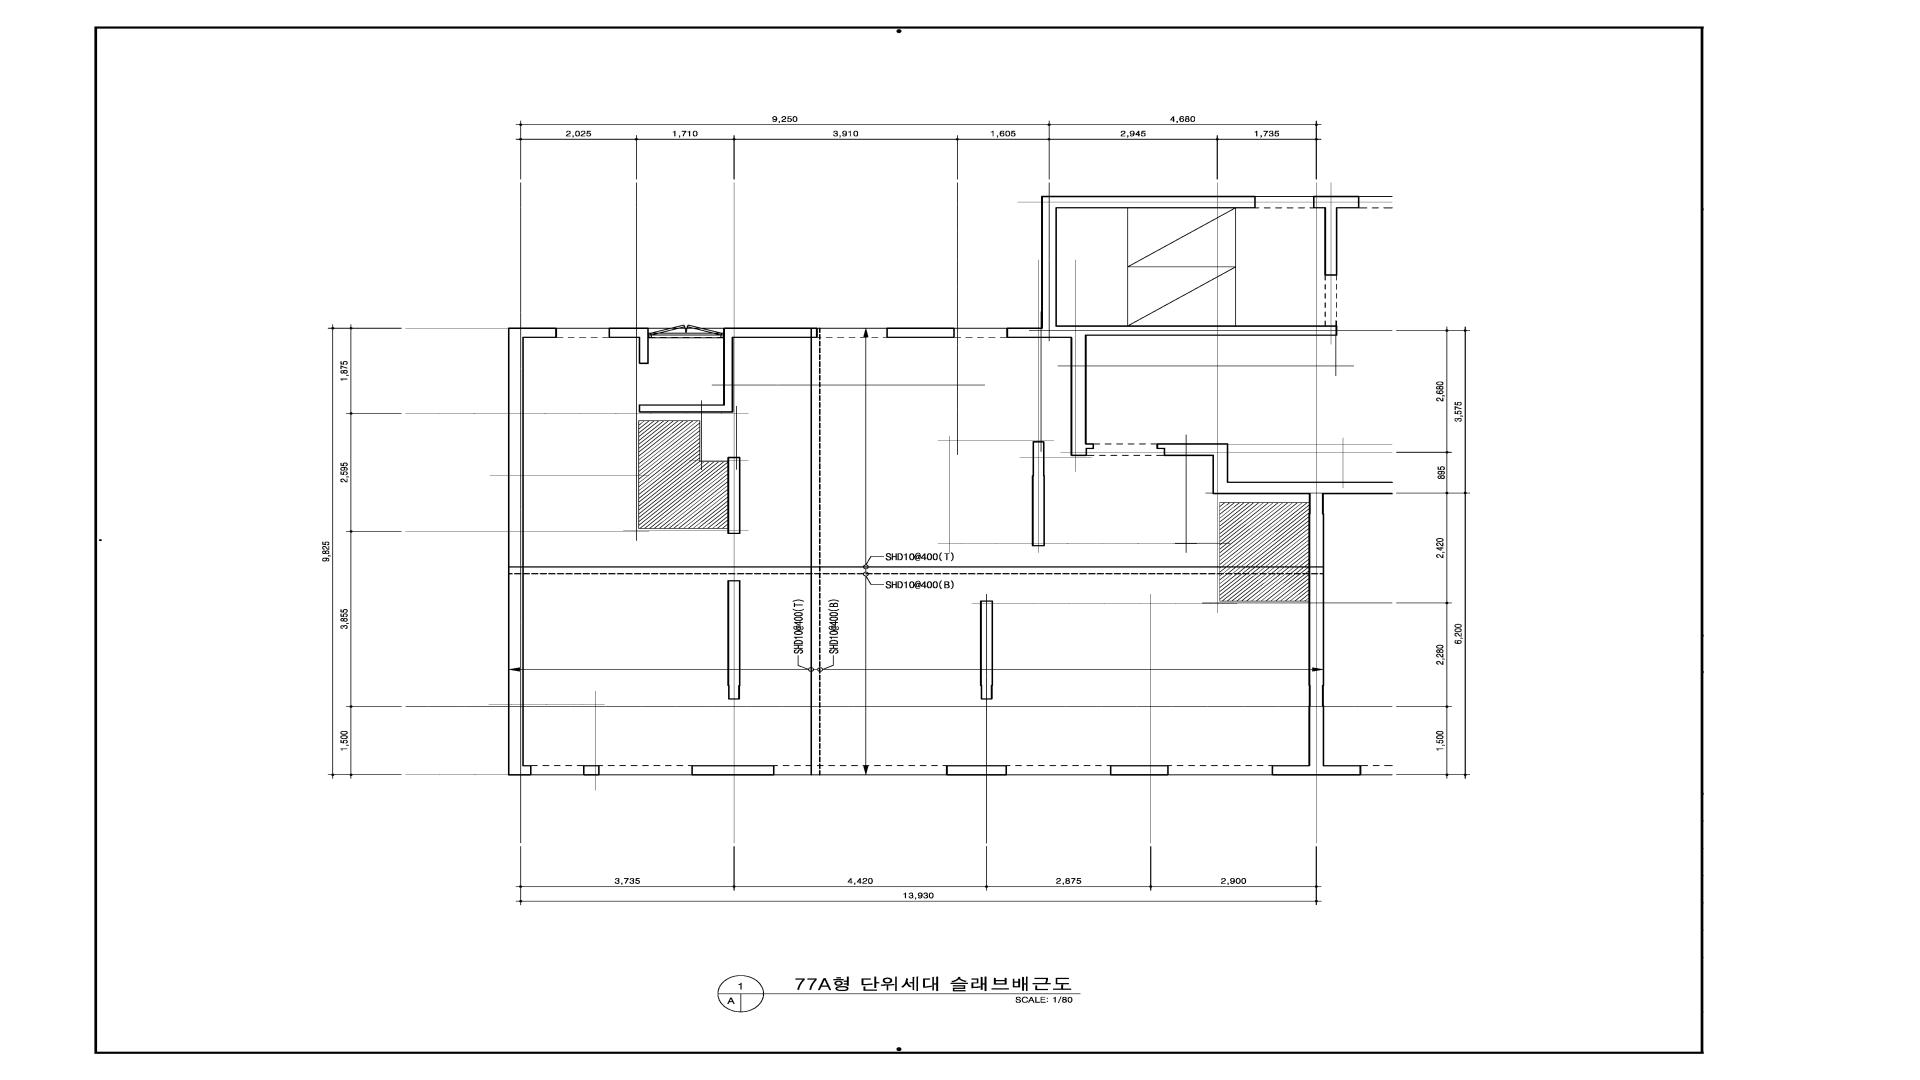wall: (1006, 196, 1337, 456), (1271, 574, 1361, 775), (638, 327, 818, 413), (1156, 443, 1393, 495), (508, 327, 556, 567), (508, 567, 1324, 574), (508, 574, 531, 775), (1313, 195, 1360, 276), (811, 327, 820, 567), (811, 574, 820, 775), (728, 580, 741, 700), (608, 327, 649, 364), (1031, 442, 1044, 546), (980, 600, 993, 700), (1308, 495, 1324, 567), (728, 456, 740, 534), (691, 765, 774, 775), (886, 327, 955, 338), (945, 765, 1007, 775), (1110, 765, 1168, 775), (583, 765, 600, 775)
